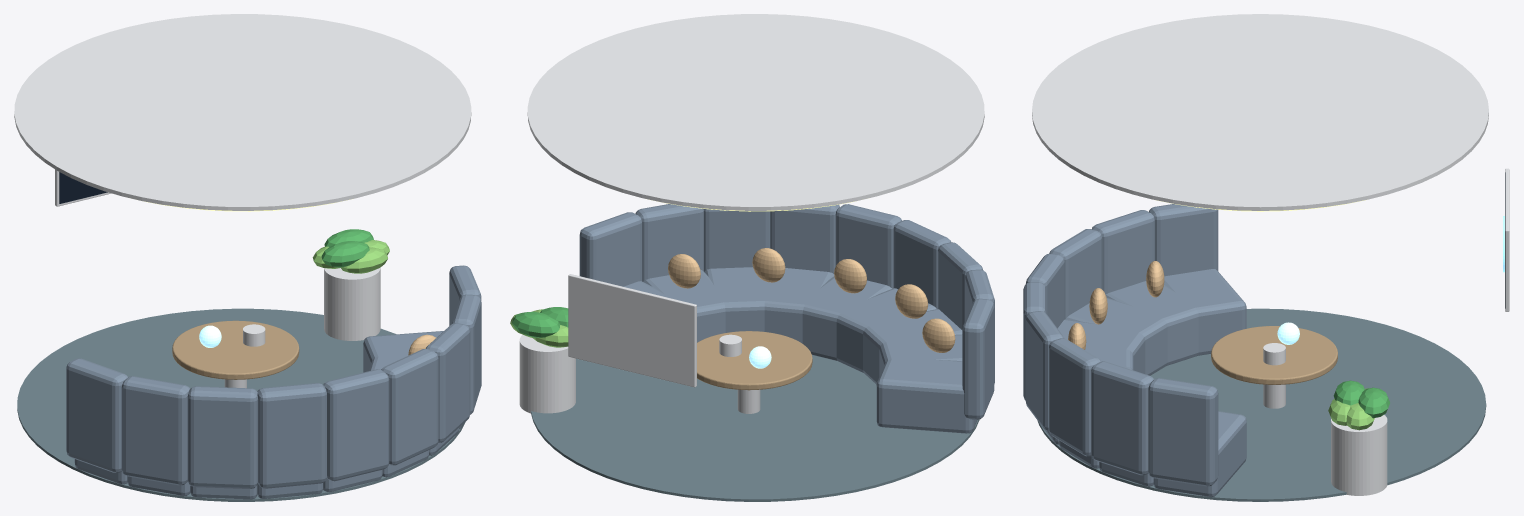
The model's file is stress_lounge.glb.
3 renders of one model, left to right at view 1: azimuth 30°, elevation 25°; view 2: azimuth 150°, elevation 25°; view 3: azimuth 270°, elevation 25°, orthographic.
Parts seen in each view (by area): view 1: Ceiling_Ring, Round_Rug, Sofa_Back.002, Sofa_Back.003, Sofa_Back.001, Sofa_Back.004, Sofa_Back, Low_Table, Sofa_Back.005, Plant_Pot, Sofa_Back.006, Sofa_Back.007 (+11 smaller); view 2: Ceiling_Ring, Round_Rug, Lounge_Screen_Bezel, Sofa_Seat, Low_Table, Sofa_Back.008, Sofa_Back.005, Sofa_Back.007, Sofa_Back.004, Plant_Pot, Sofa_Back.006, Sofa_Back (+17 smaller); view 3: Ceiling_Ring, Round_Rug, Sofa_Back.008, Sofa_Back.007, Low_Table, Sofa_Back.006, Sofa_Back, Plant_Pot, Sofa_Back.001, Sofa_Seat, Sofa_Seat.001, Sofa_Back.002 (+14 smaller).
Part boxes in pixels (left/top/right/bottom): Ceiling_Ring: left=14, top=14, right=471, bottom=210; Round_Rug: left=17, top=308, right=465, bottom=501; Sofa_Back.002: left=187, top=386, right=257, bottom=488; Sofa_Back.003: left=257, top=383, right=326, bottom=488; Sofa_Back.001: left=121, top=376, right=189, bottom=485; Sofa_Back.004: left=323, top=369, right=389, bottom=481; Sofa_Back: left=66, top=358, right=127, bottom=472; Low_Table: left=172, top=320, right=299, bottom=379; Sofa_Back.005: left=381, top=349, right=438, bottom=465; Plant_Pot: left=324, top=267, right=380, bottom=340; Sofa_Back.006: left=425, top=323, right=470, bottom=442; Sofa_Back.007: left=452, top=294, right=481, bottom=414; Ceiling_Ring: left=527, top=14, right=984, bottom=210; Round_Rug: left=531, top=355, right=979, bottom=501; Lounge_Screen_Bezel: left=568, top=274, right=696, bottom=387; Sofa_Seat: left=876, top=356, right=977, bottom=433; Low_Table: left=697, top=331, right=812, bottom=390; Sofa_Back.008: left=579, top=212, right=641, bottom=286; Sofa_Back.005: left=770, top=204, right=839, bottom=273; Sofa_Back.007: left=635, top=204, right=703, bottom=281; Sofa_Back.004: left=835, top=204, right=901, bottom=288; Plant_Pot: left=519, top=335, right=575, bottom=413; Sofa_Back.006: left=703, top=209, right=770, bottom=271; Sofa_Back: left=962, top=298, right=994, bottom=419; Ceiling_Ring: left=1032, top=14, right=1488, bottom=210; Round_Rug: left=1037, top=308, right=1486, bottom=501; Sofa_Back.008: left=1148, top=378, right=1218, bottom=486; Sofa_Back.007: left=1091, top=361, right=1153, bottom=475; Low_Table: left=1211, top=326, right=1337, bottom=384; Sofa_Back.006: left=1049, top=338, right=1101, bottom=456; Sofa_Back: left=1149, top=204, right=1218, bottom=276; Plant_Pot: left=1331, top=415, right=1387, bottom=495; Sofa_Back.001: left=1092, top=210, right=1154, bottom=294; Sofa_Seat: left=1164, top=269, right=1246, bottom=355; Sofa_Seat.001: left=1105, top=281, right=1199, bottom=365; Sofa_Back.002: left=1049, top=229, right=1102, bottom=319.
Bounding box in the file's own units: 3.3 × 2.31 × 3.45.
